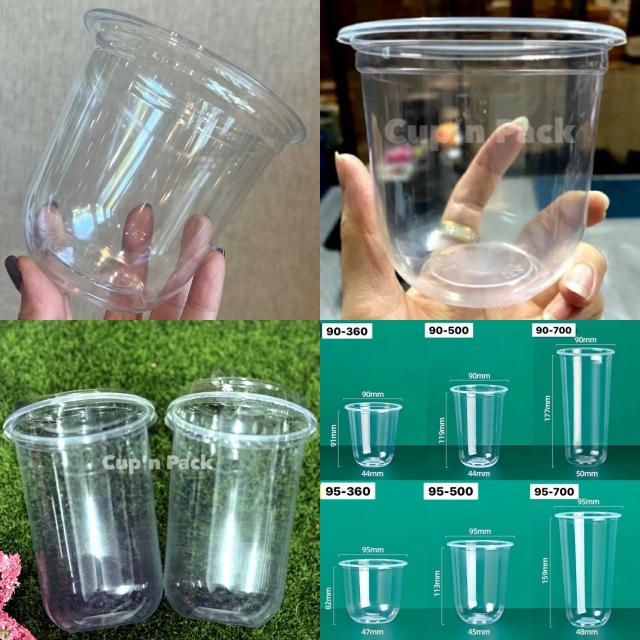Single-Use-Plastic: (24, 9, 306, 312), (340, 19, 624, 308), (164, 376, 318, 626), (4, 390, 162, 631), (555, 511, 621, 628), (558, 348, 615, 466), (448, 540, 514, 624), (450, 384, 508, 468), (339, 559, 408, 624), (345, 402, 402, 467)
